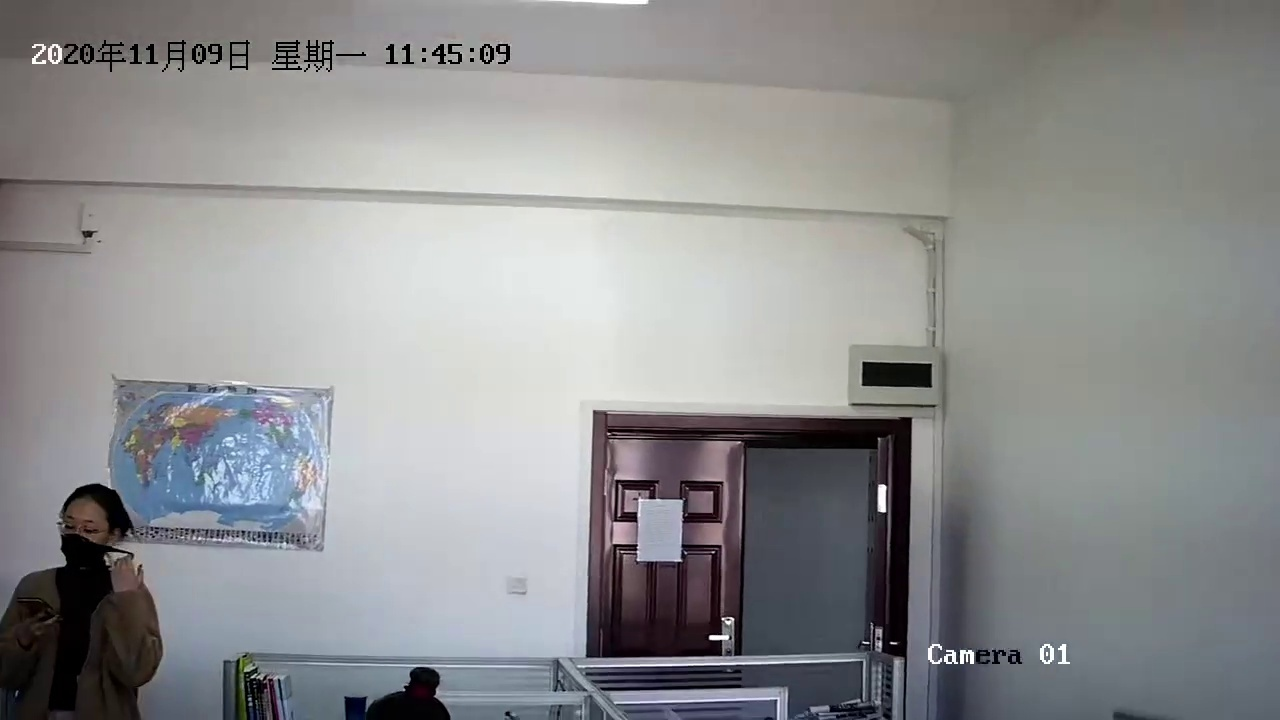mask: (54, 473, 116, 569)
